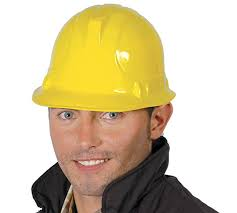Person_wearing_helmet: (30, 0, 173, 131)
